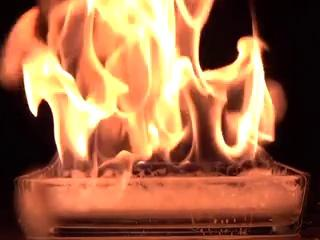Fire: (10, 1, 280, 193)
